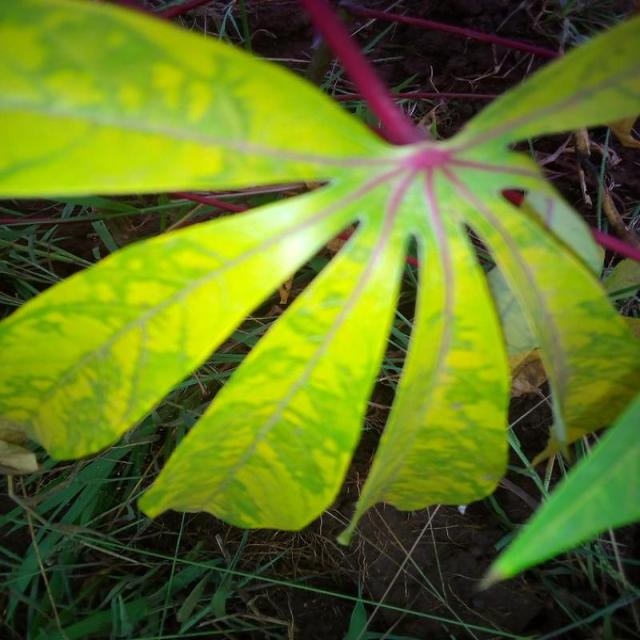cassava leaf: (1, 1, 638, 549), (135, 210, 409, 531)
